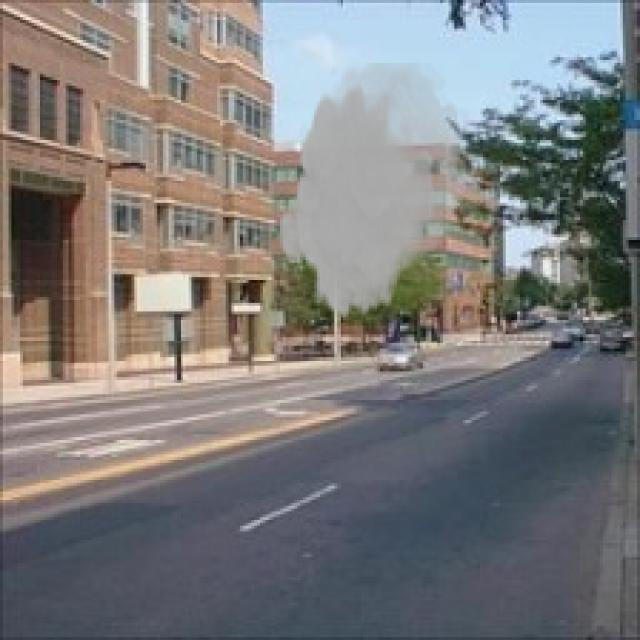smoke: (277, 63, 477, 323)
